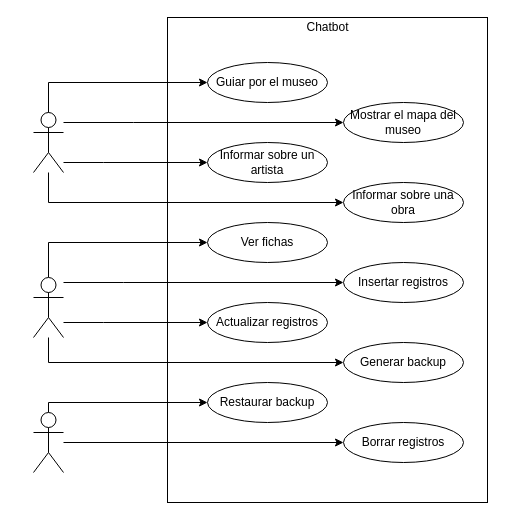
The diagram is 505 pixels wide and 520 high, and some of its shapes have lost their labels. Each missing label, with the box of its shape:
Admin User: (32, 276, 64, 338)
Public User: (32, 112, 64, 172)
Super User: (32, 412, 64, 472)
